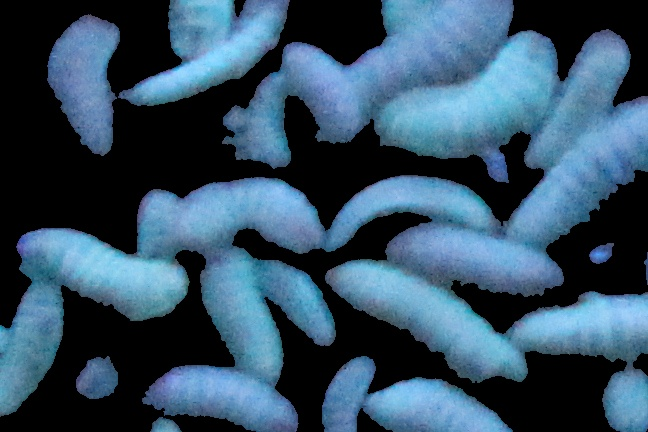larvae: (306, 253, 534, 396), (371, 32, 565, 152), (514, 99, 648, 247), (17, 212, 189, 320), (178, 154, 336, 269), (530, 33, 639, 167), (344, 1, 517, 85), (38, 1, 129, 160), (123, 13, 277, 106), (388, 224, 561, 293), (195, 248, 286, 378), (338, 168, 497, 237), (507, 289, 648, 360), (145, 367, 293, 432), (61, 1, 234, 55), (281, 45, 368, 146), (1, 284, 66, 417), (363, 379, 511, 432), (264, 250, 334, 351), (314, 353, 376, 432)
